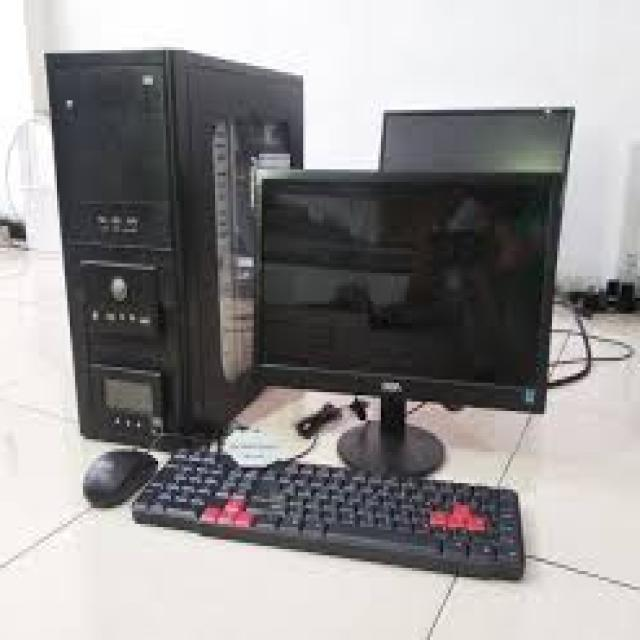monitor: (221, 173, 575, 463)
